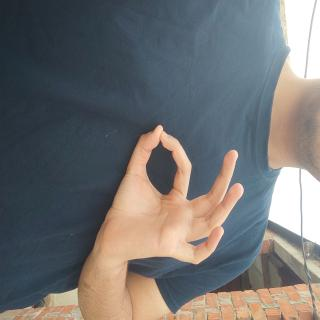Space: (91, 96, 202, 310)
